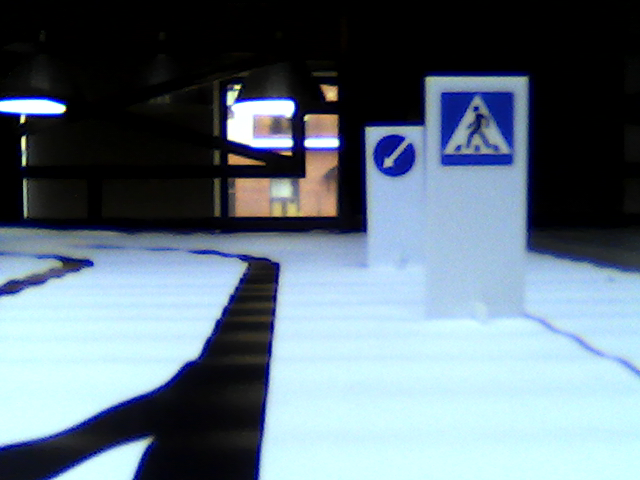pesh: (436, 89, 519, 170)
prep: (372, 133, 418, 178)
